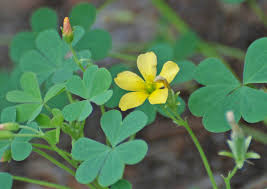clover: (187, 35, 267, 133), (71, 109, 150, 187)
yellow wood sorrel: (113, 50, 182, 112)
